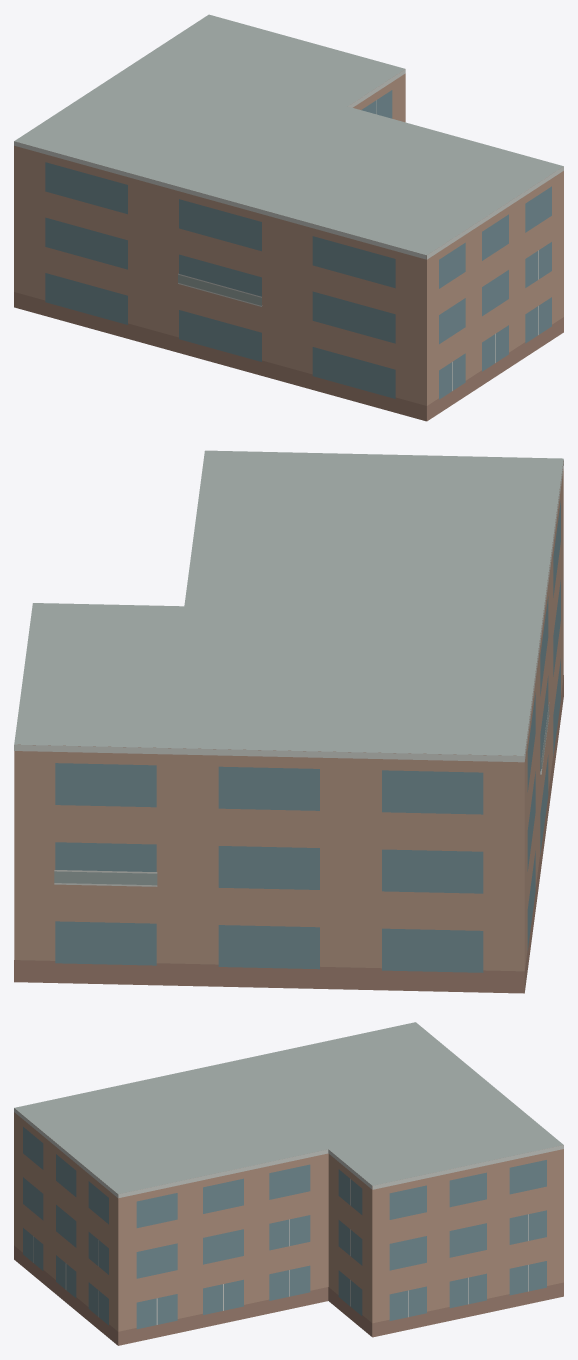
The model's file is survey-upis-32699176.glb.
3 renders of one model, top to bottom at view 1: azimuth 30°, elevation 25°; view 2: azimuth 150°, elevation 25°; view 3: azimuth 270°, elevation 25°, orthographic. The views are drawn at different scales.
Visible parts, largest first — view 1: survey-upis-32699176.tmp; view 2: survey-upis-32699176.tmp; view 3: survey-upis-32699176.tmp.
Boxes of the visible parts, x1,y1,x2,y2 form: survey-upis-32699176.tmp: (14,14,563,421); survey-upis-32699176.tmp: (14,450,563,993); survey-upis-32699176.tmp: (14,1022,563,1345).
Bounding box in the file's own units: 22.3 × 9.15 × 30.09.
